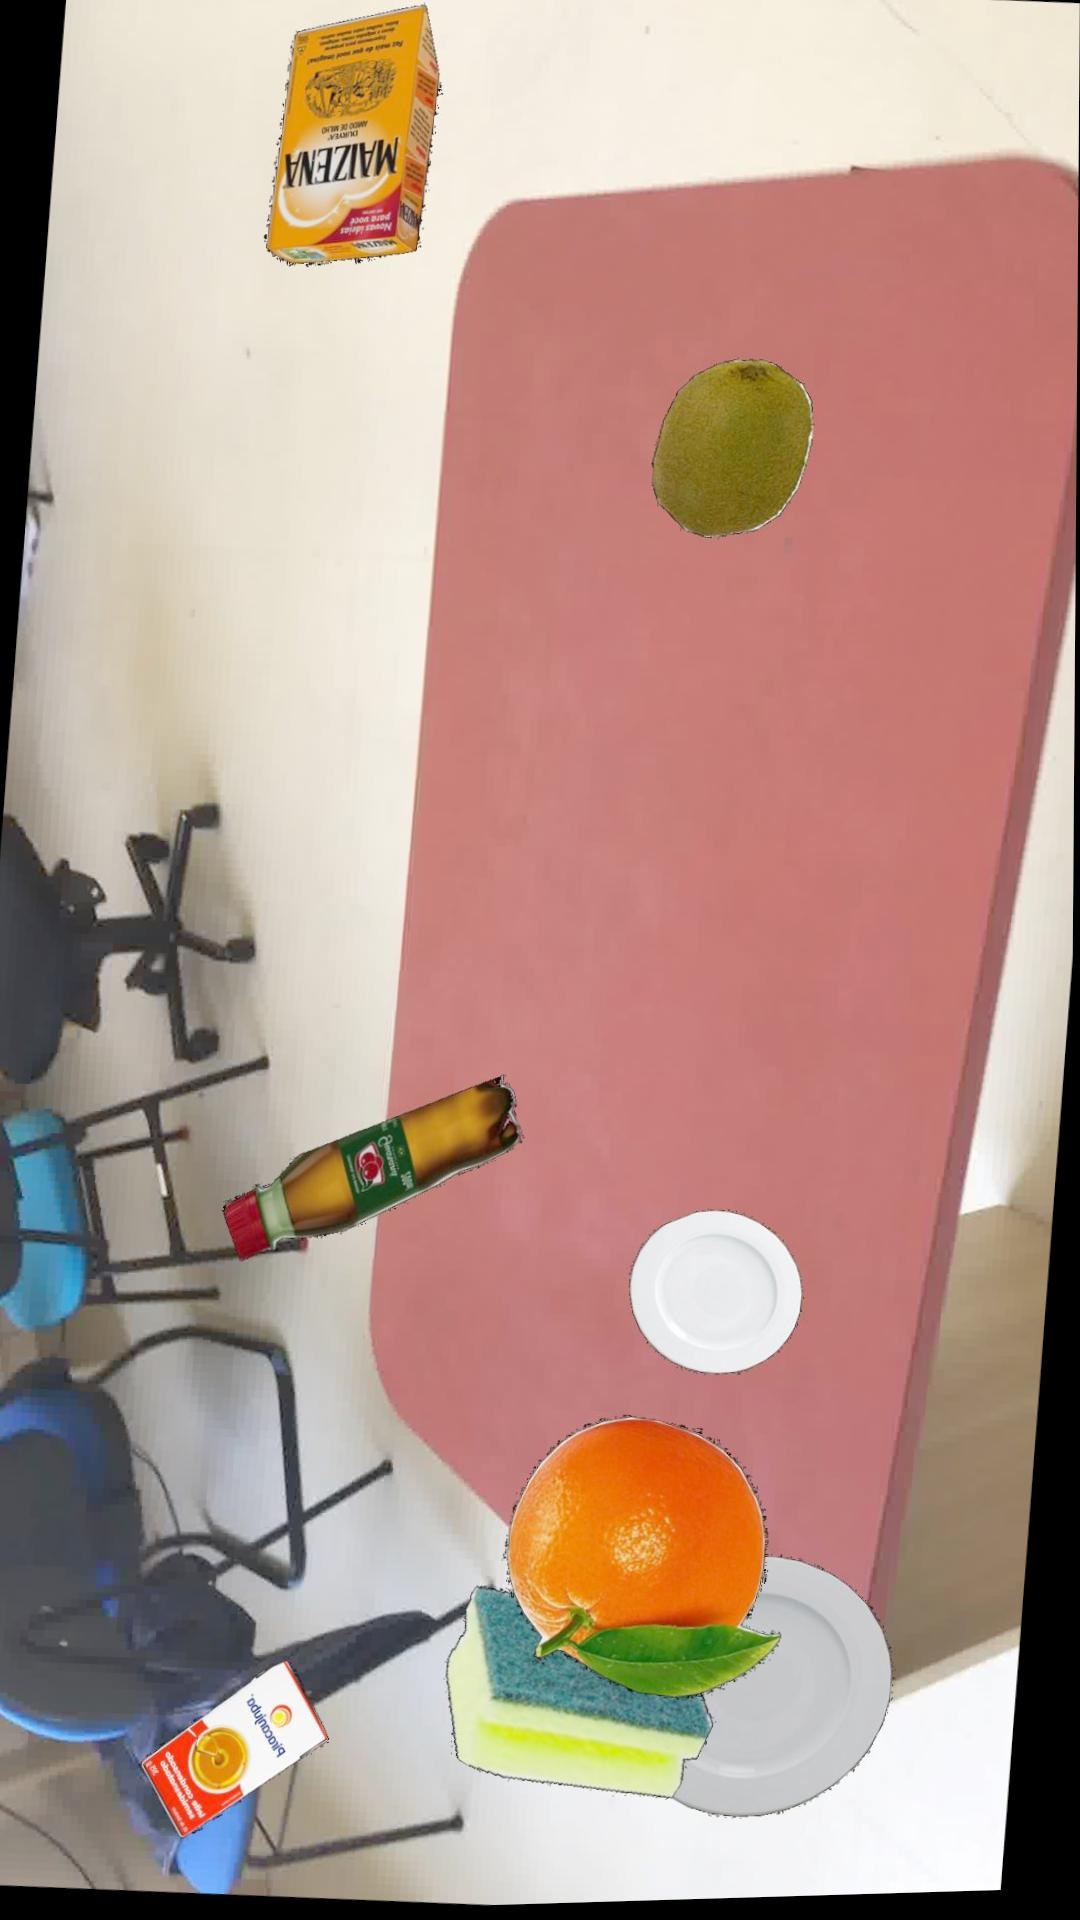guarana: (224, 1076, 525, 1261)
kiwi: (653, 363, 815, 541)
orange: (509, 1418, 785, 1702)
plate: (676, 1559, 897, 1821), (633, 1213, 806, 1378)
sponge: (450, 1588, 717, 1801)
